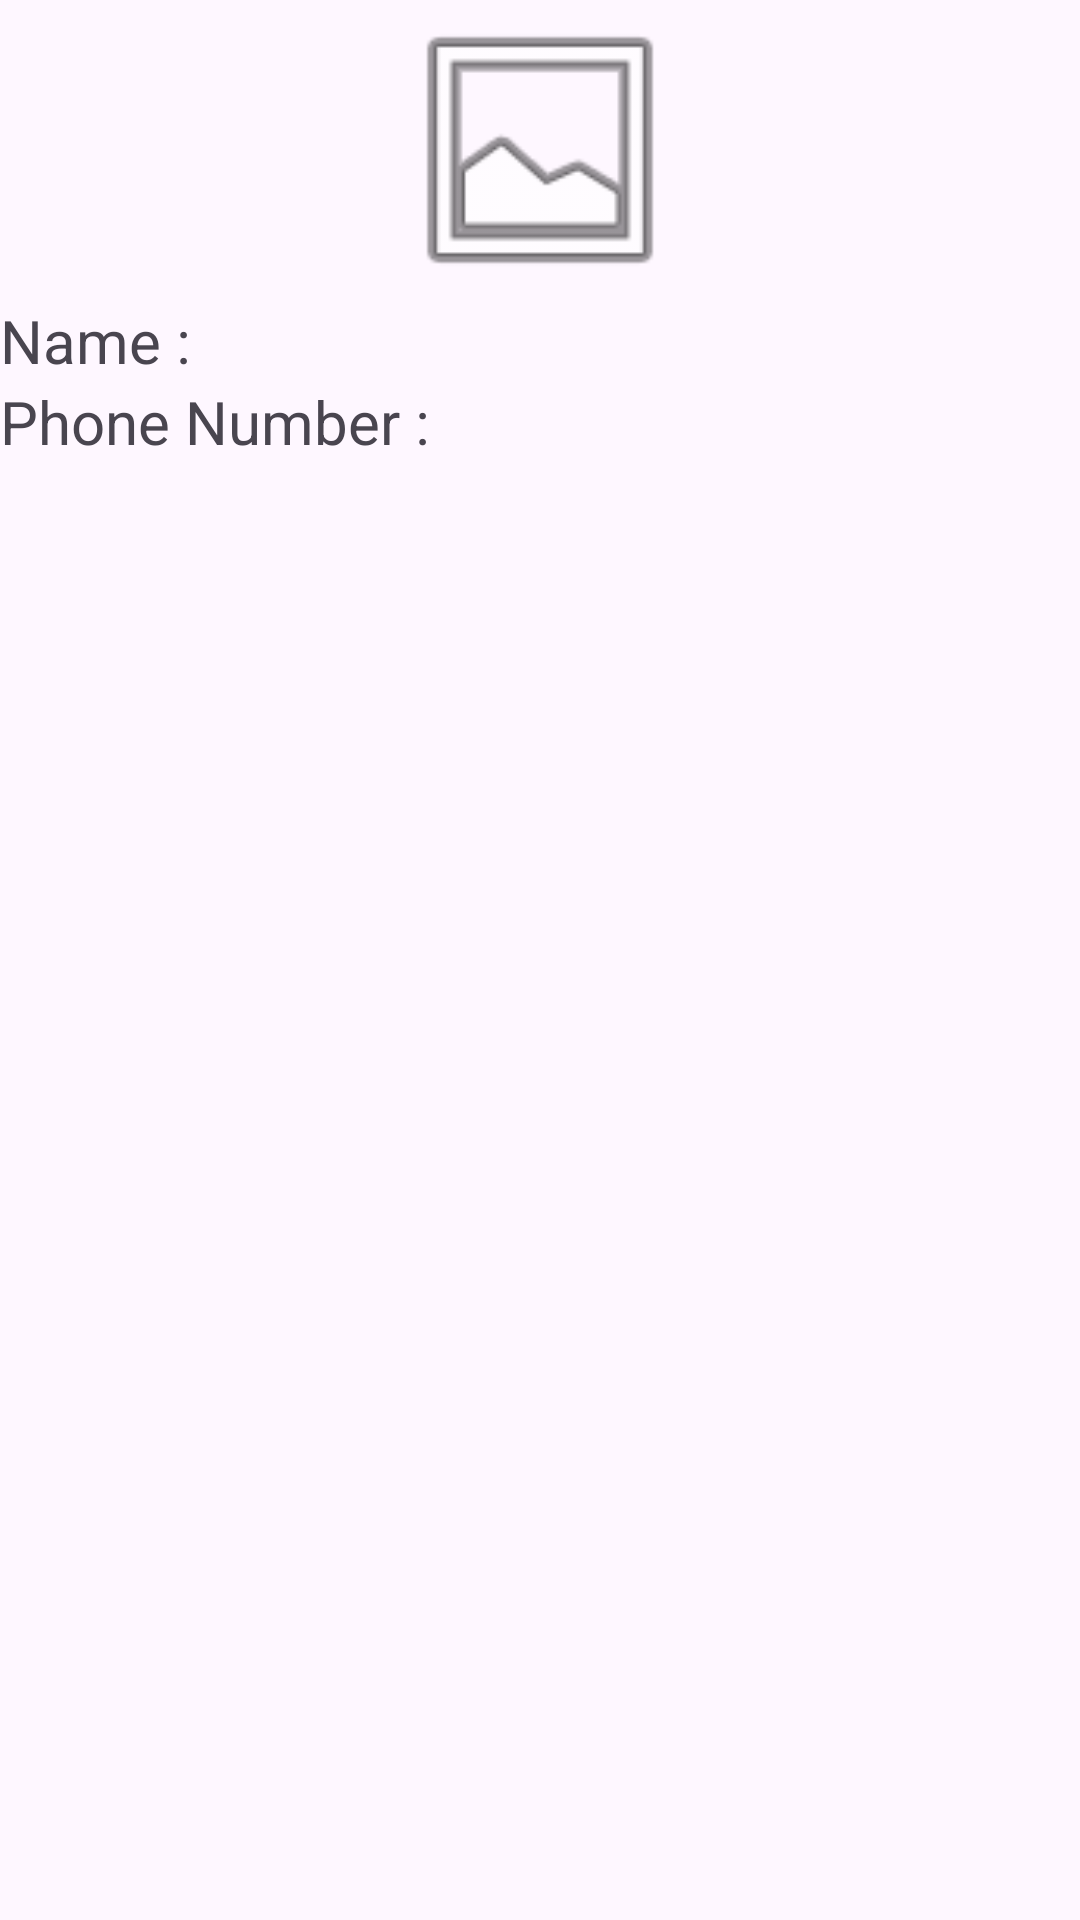

Screen size 1080 x 1920. Icon name, then its box in pixels as (x1, y1, x2, y2):
gallery: (427, 37, 653, 263)
